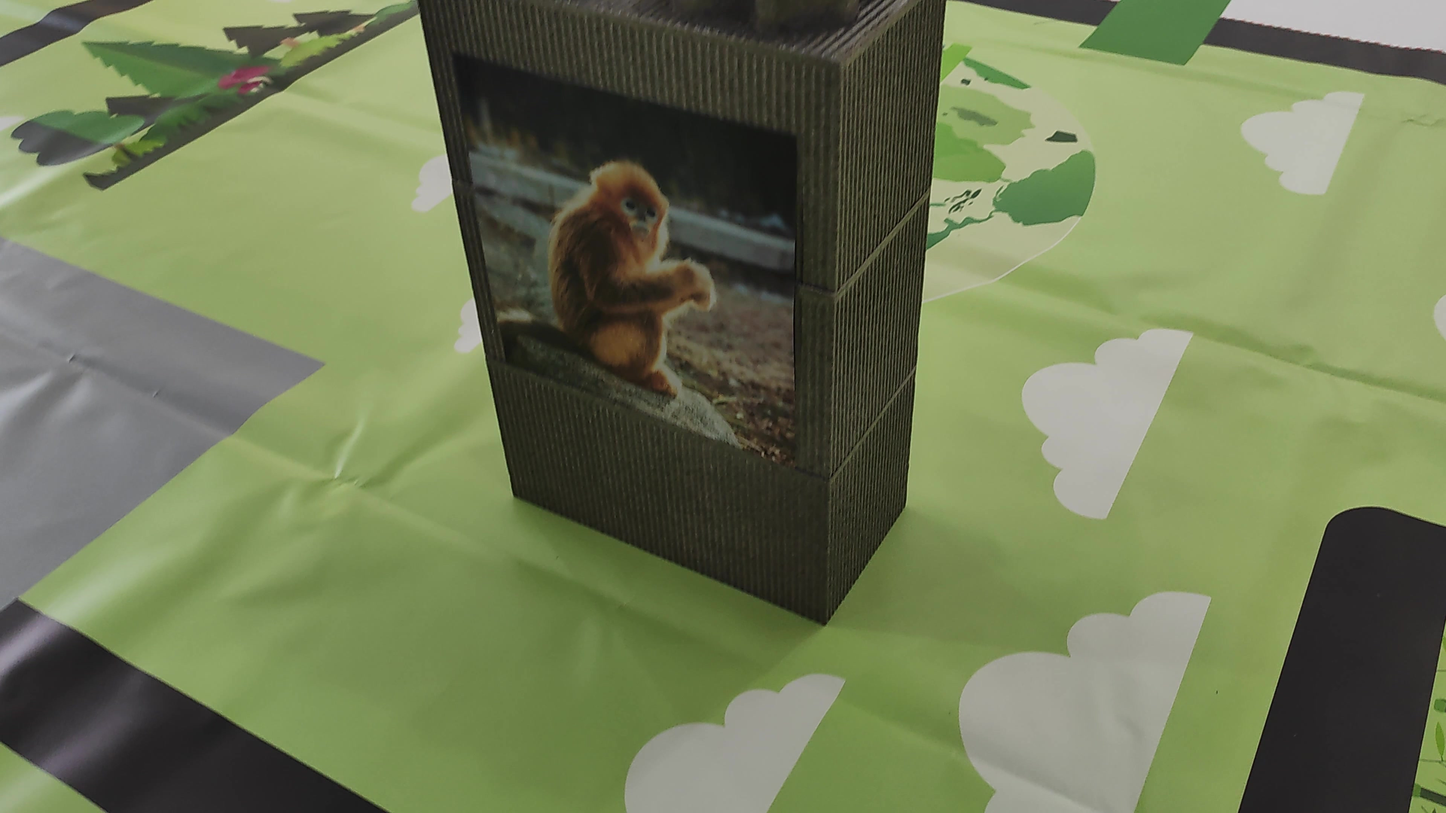monkey: (526, 134, 739, 390)
